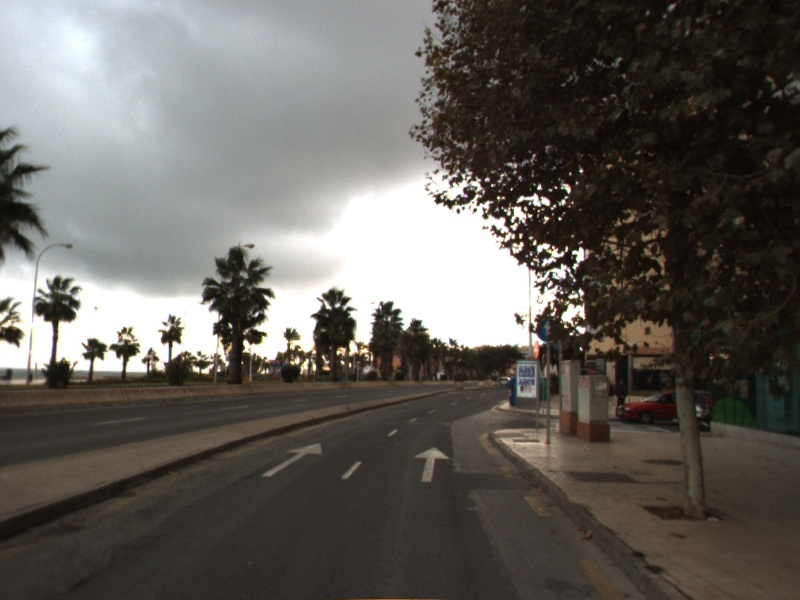STRAIGHT: (260, 441, 323, 478), (412, 445, 452, 483)
